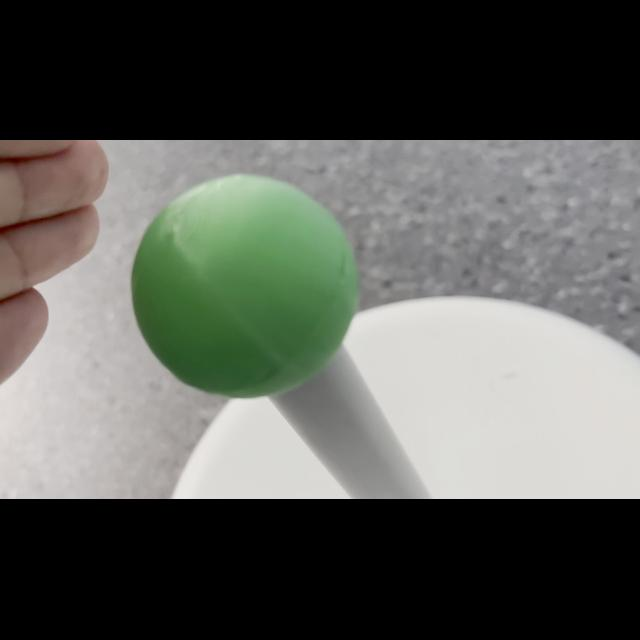objects: (123, 167, 367, 403)
